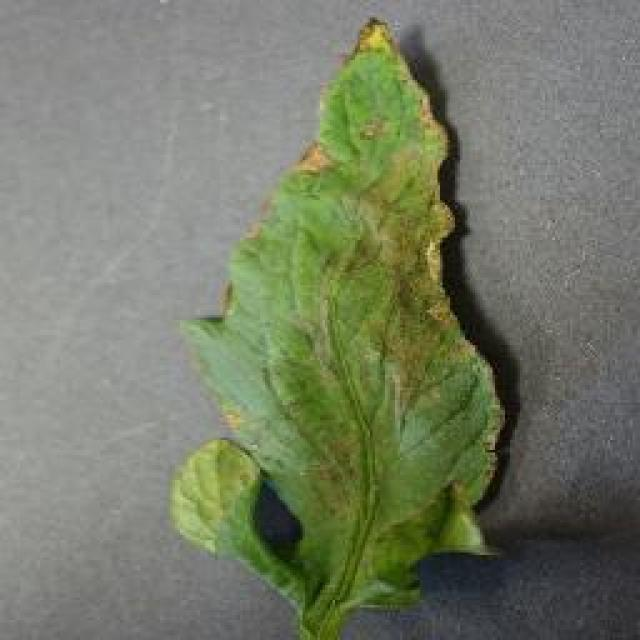Tomato___Bacterial_spot: (169, 11, 507, 638)
